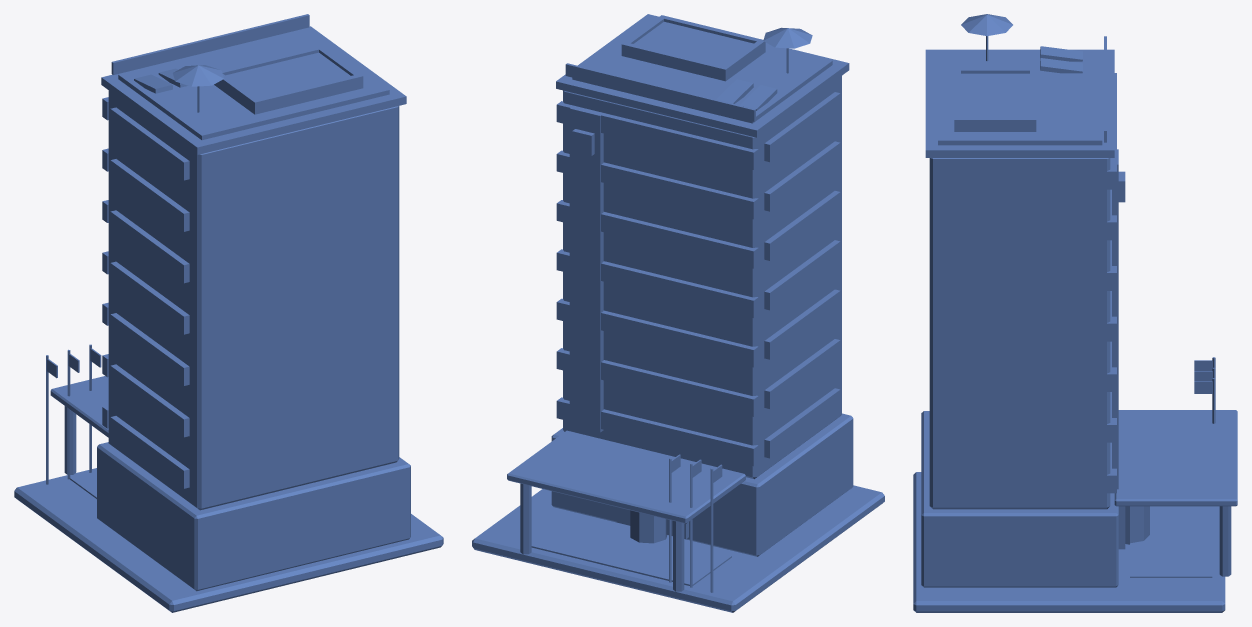
3 renders of one model, left to right at view 1: azimuth 30°, elevation 25°; view 2: azimuth 150°, elevation 25°; view 3: azimuth 270°, elevation 25°, orthographic. The views are drawn at different scales.
Visible parts, largest first — view 1: corpo; view 2: corpo; view 3: corpo.
Boxes of the visible parts, left/top/right/bottom form: corpo: left=14, top=14, right=443, bottom=612; corpo: left=472, top=14, right=884, bottom=612; corpo: left=913, top=14, right=1237, bottom=612.
Bounding box in the file's own units: 1.9 × 3.35 × 1.98.
